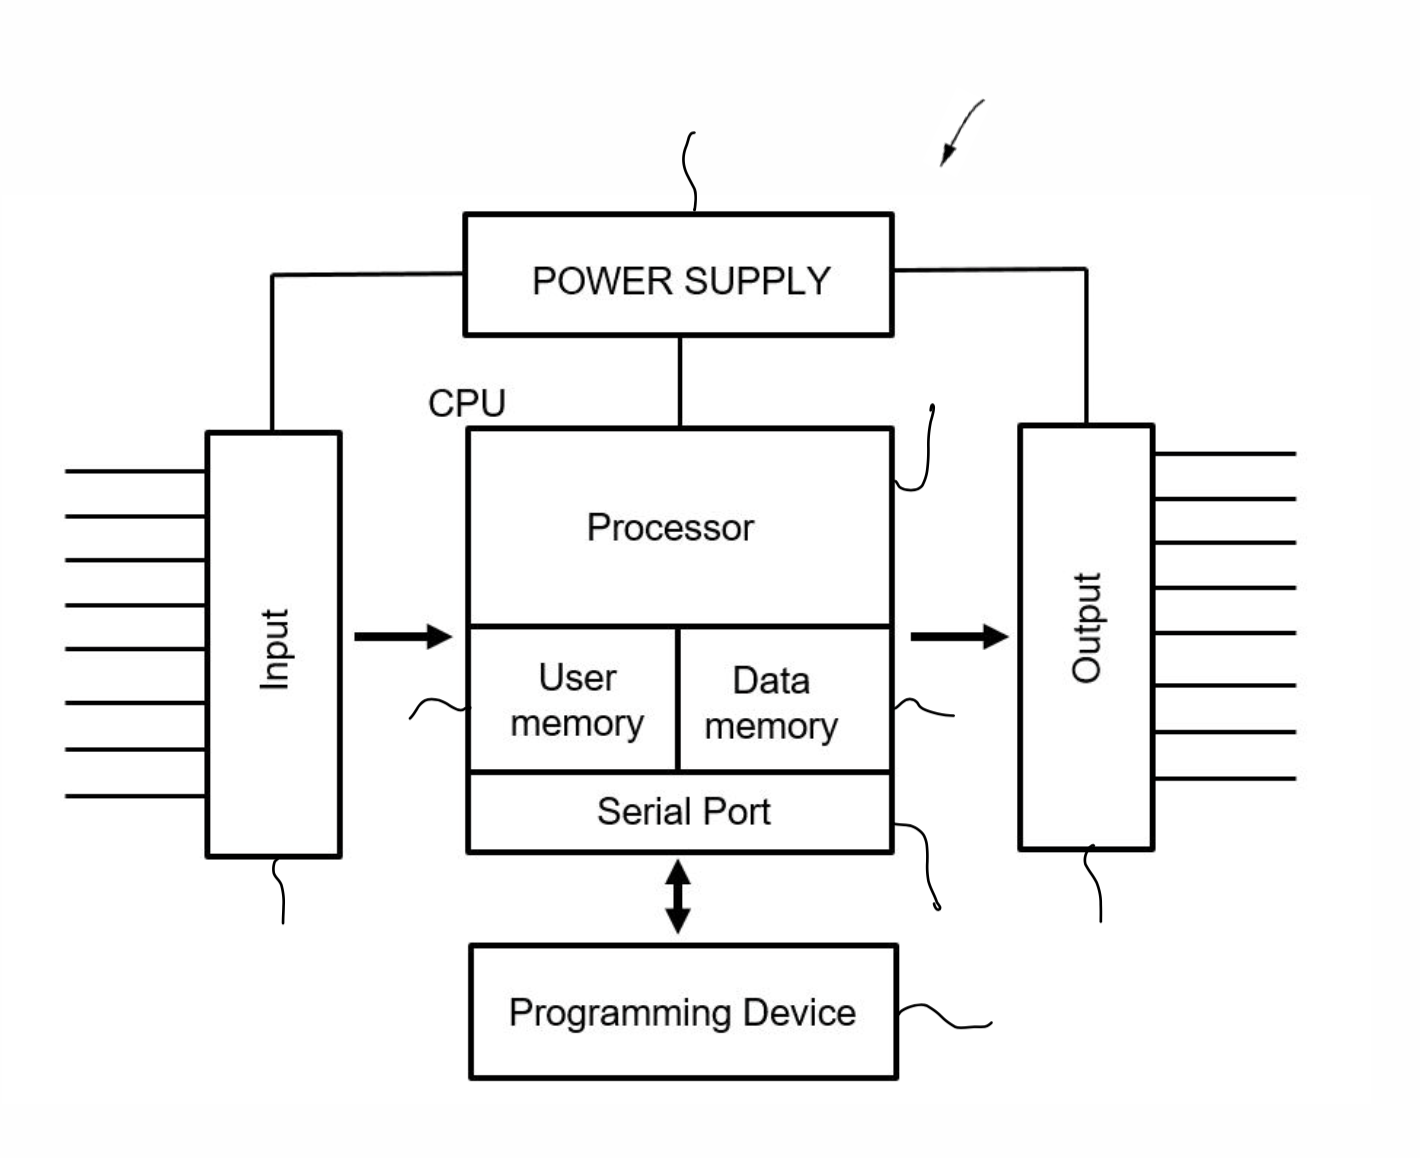Callout: (863, 380, 968, 529), (885, 979, 1010, 1070), (874, 790, 959, 916), (931, 68, 1000, 199), (659, 100, 719, 222), (1067, 820, 1129, 933), (887, 678, 962, 736), (399, 675, 469, 732), (255, 848, 304, 927)
